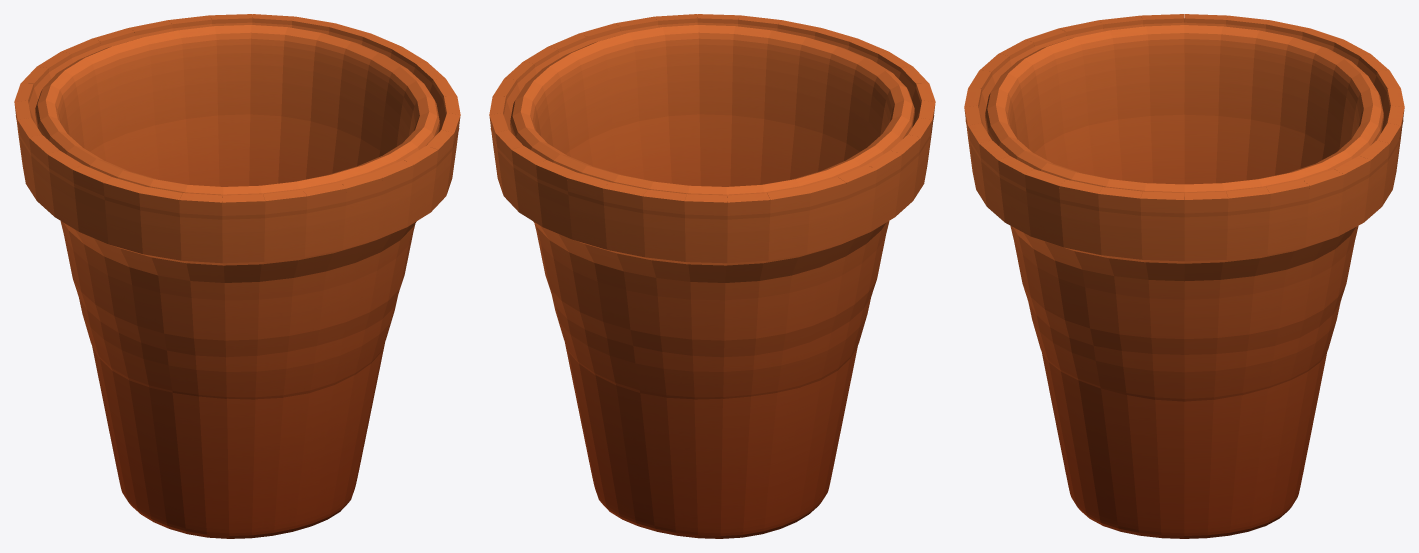
Rendered from Vaso3.fbx.
3 renders of one model, left to right at view 1: azimuth 30°, elevation 25°; view 2: azimuth 150°, elevation 25°; view 3: azimuth 270°, elevation 25°, orthographic.
Visible parts, largest first — view 1: Cube.009; view 2: Cube.009; view 3: Cube.009.
Boxes of the visible parts, x1,y1,x2,y2 form: Cube.009: [14, 14, 460, 538]; Cube.009: [489, 14, 935, 538]; Cube.009: [964, 14, 1404, 538].
Bounding box in the file's own units: 57.47 × 56.01 × 57.47.
Materials: 1 (1 with a texture image).
